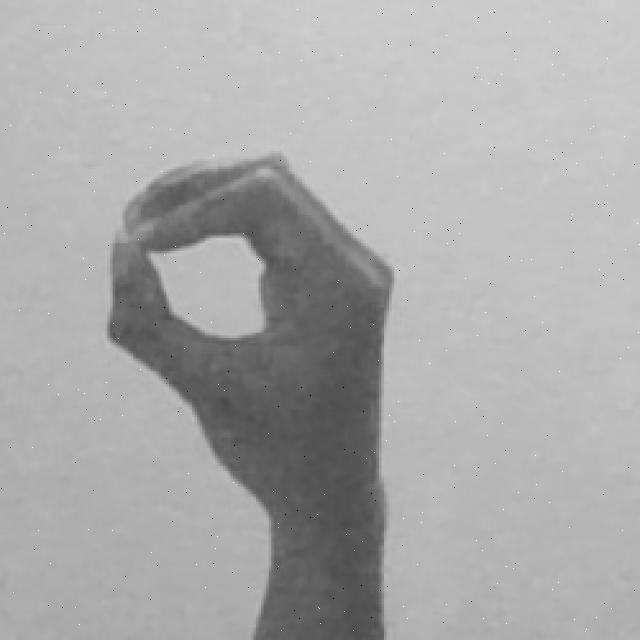O: (98, 143, 399, 640)
